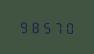eight: (29, 19, 39, 33)
five: (40, 19, 50, 34)
nine: (18, 19, 28, 33)
seven: (51, 20, 61, 34)
zero: (62, 20, 72, 34)
